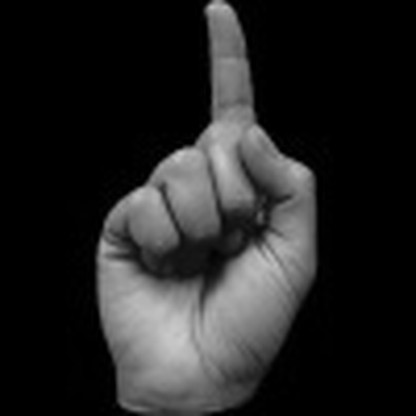d: (68, 1, 329, 416)
